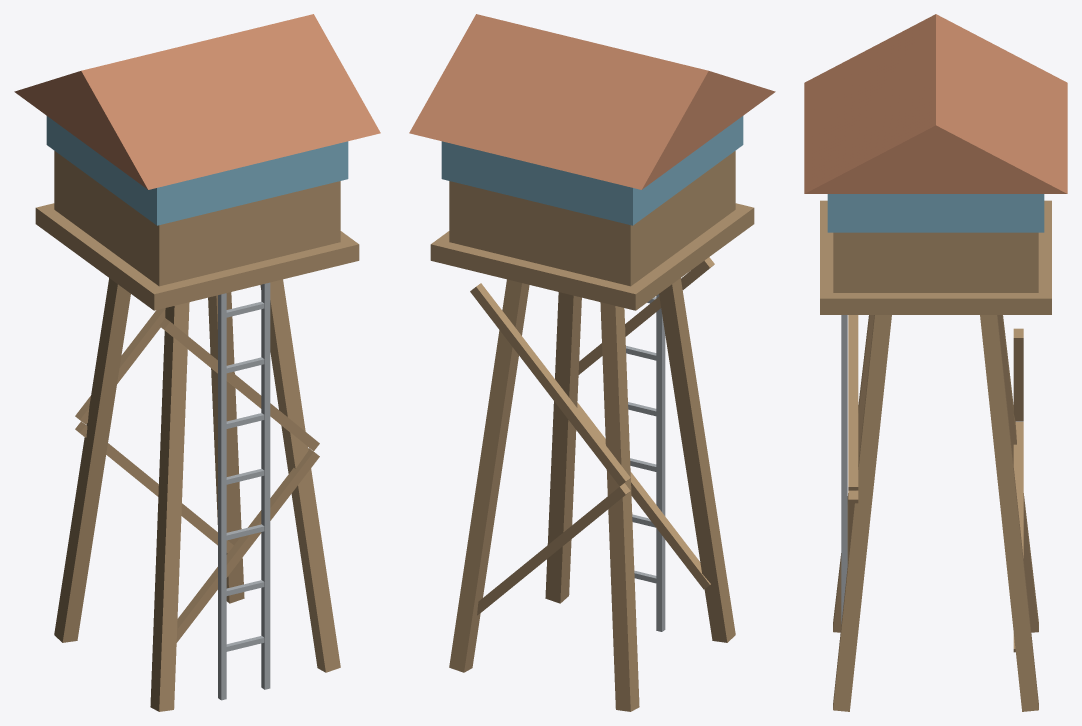
File: watchtower.glb
The picture shows the model from 3 angles, left to right: view 1: azimuth 30°, elevation 25°; view 2: azimuth 150°, elevation 25°; view 3: azimuth 270°, elevation 25°; orthographic projection.
Visible parts, largest first — view 1: watch_roof, watch_cab, watch_glass, watch_leg, watch_leg.001, watch_platform, watch_leg.002, watch_ladder_rail.001, watch_leg.003, watch_ladder_rail, watch_brace, watch_brace.002 (+2 smaller); view 2: watch_roof, watch_cab, watch_glass, watch_leg.001, watch_leg.003, watch_leg, watch_platform, watch_leg.002, watch_brace.003, watch_ladder_rail, watch_brace.001, watch_brace (+1 smaller); view 3: watch_roof, watch_cab, watch_glass, watch_platform, watch_leg.003, watch_leg.002, watch_ladder_rail.001, watch_brace.002, watch_leg.001, watch_leg, watch_brace.003, watch_brace.001.
Boxes of the visible parts, x1,y1,x2,y2 form: watch_roof: (14,14,380,189); watch_cab: (54,151,340,286); watch_glass: (46,116,348,225); watch_leg: (150,302,189,711); watch_leg.001: (54,278,130,642); watch_platform: (35,203,359,310); watch_leg.002: (260,279,340,672); watch_ladder_rail.001: (261,282,270,689); watch_leg.003: (208,292,244,603); watch_ladder_rail: (218,293,226,700); watch_brace: (176,448,319,642); watch_brace.002: (159,318,319,450); watch_roof: (409,14,775,189); watch_cab: (449,151,735,286); watch_glass: (441,116,743,225); watch_leg.001: (600,302,639,711); watch_leg.003: (449,279,529,672); watch_leg: (659,278,735,642); watch_platform: (430,203,754,310); watch_leg.002: (545,292,581,603); watch_brace.003: (470,283,630,486); watch_ladder_rail: (656,294,665,631); watch_brace.001: (477,483,630,615); watch_brace: (577,402,710,589); watch_roof: (804,14,1067,193); watch_cab: (833,232,1038,292); watch_glass: (827,194,1044,232); watch_platform: (820,200,1051,314); watch_leg.003: (980,315,1038,711); watch_leg.002: (833,315,891,711); watch_ladder_rail.001: (841,315,847,623); watch_brace.002: (848,315,858,490); watch_leg.001: (997,315,1038,632); watch_leg: (833,315,874,632); watch_brace.003: (1013,328,1023,421); watch_brace.001: (1013,422,1023,652).
Size of the model in its own units: 5.9 by 14.95 by 5.9.
